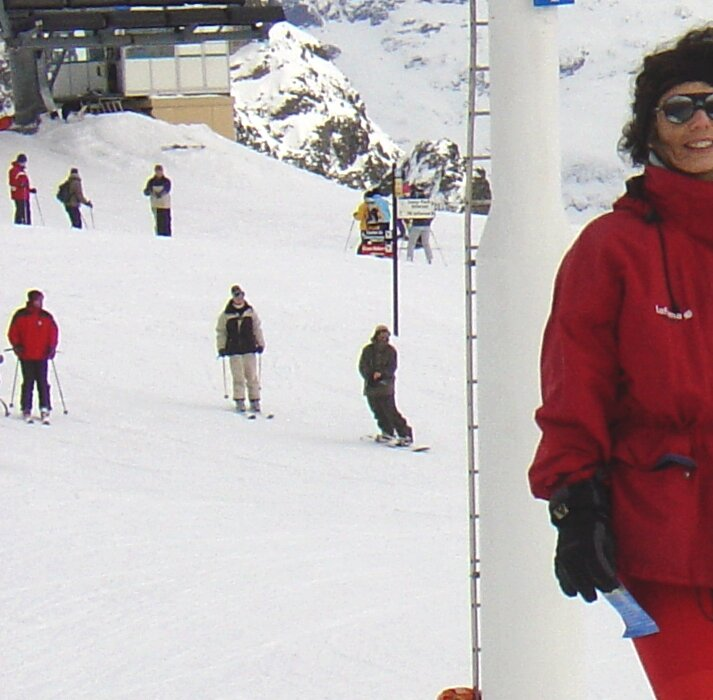person: (209, 281, 283, 421), (7, 281, 72, 435), (349, 321, 422, 452), (48, 164, 99, 236), (139, 159, 184, 237), (7, 146, 43, 229)
